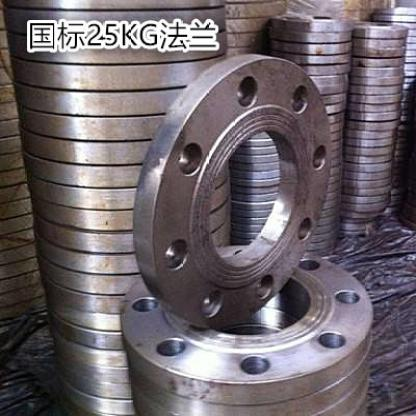FOD: (127, 47, 340, 336)
